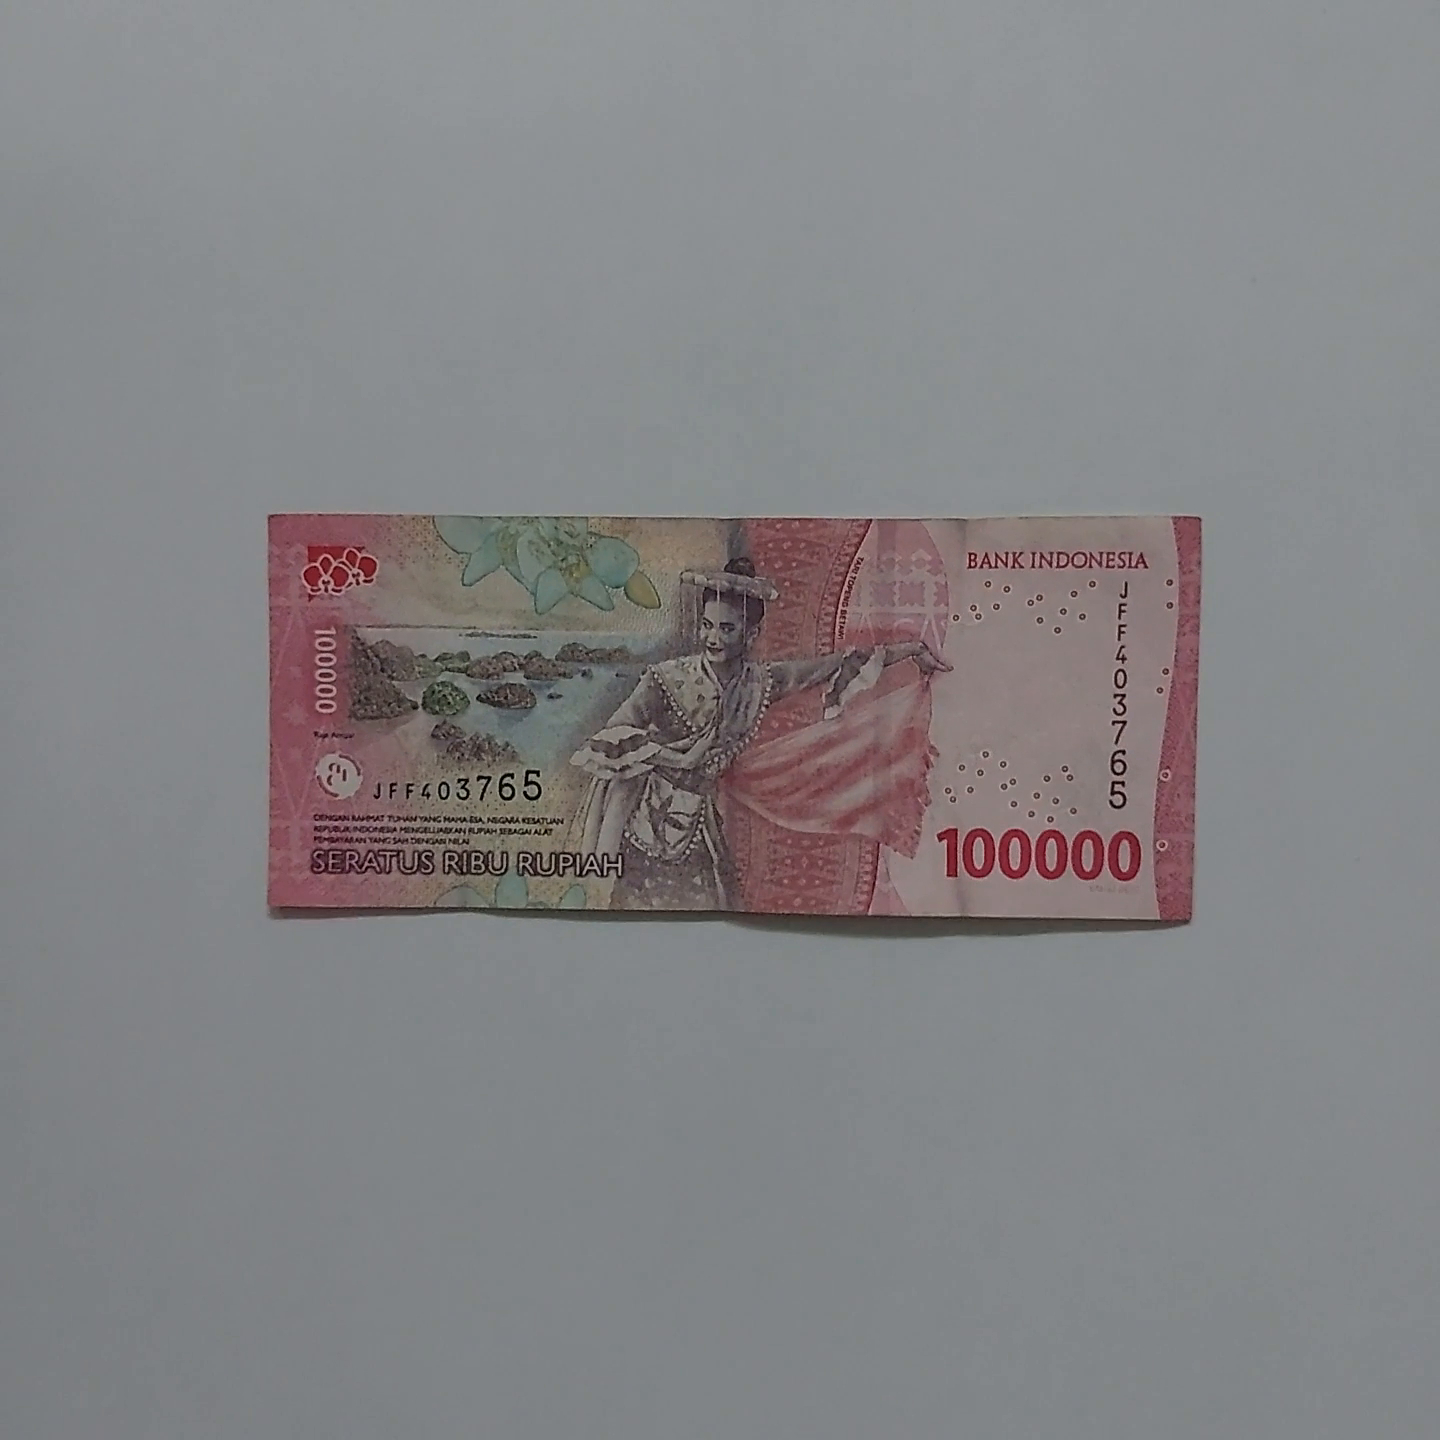100k: (240, 497, 1200, 935)
